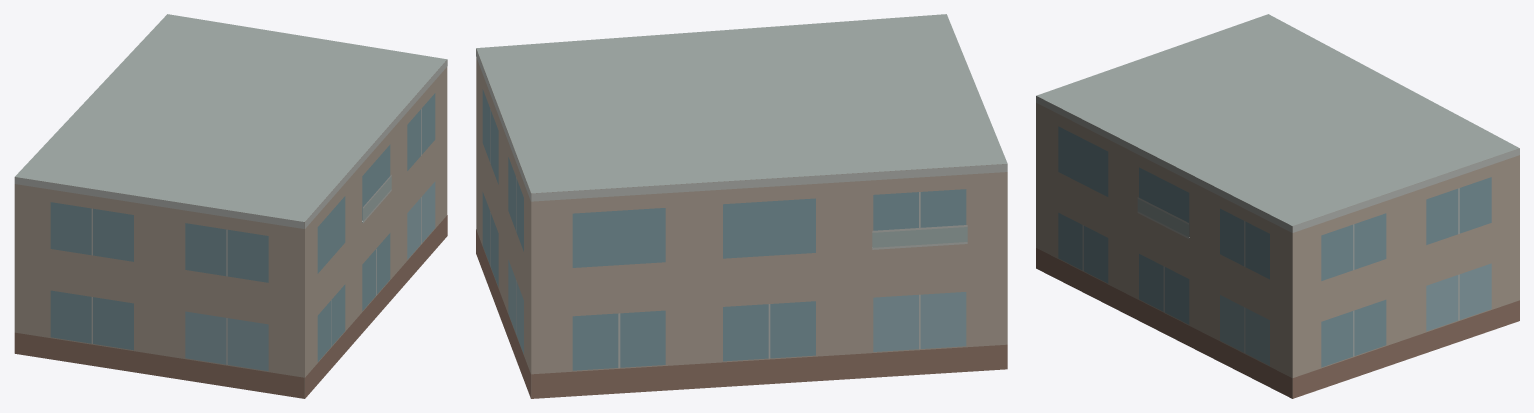
The model's file is survey-upis-32849197.glb.
3 views of the same model, side by side, from view 1: azimuth 30°, elevation 25°; view 2: azimuth 150°, elevation 25°; view 3: azimuth 270°, elevation 25° (orthographic). The views are drawn at different scales.
Visible parts, largest first — view 1: survey-upis-32849197.tmp; view 2: survey-upis-32849197.tmp; view 3: survey-upis-32849197.tmp.
Part boxes in pixels (x1,y1,x2,y2): survey-upis-32849197.tmp: (14, 14, 447, 398); survey-upis-32849197.tmp: (476, 14, 1007, 398); survey-upis-32849197.tmp: (1036, 14, 1519, 398).
Size of the model in its own units: 16.08 by 6.1 by 15.49.
